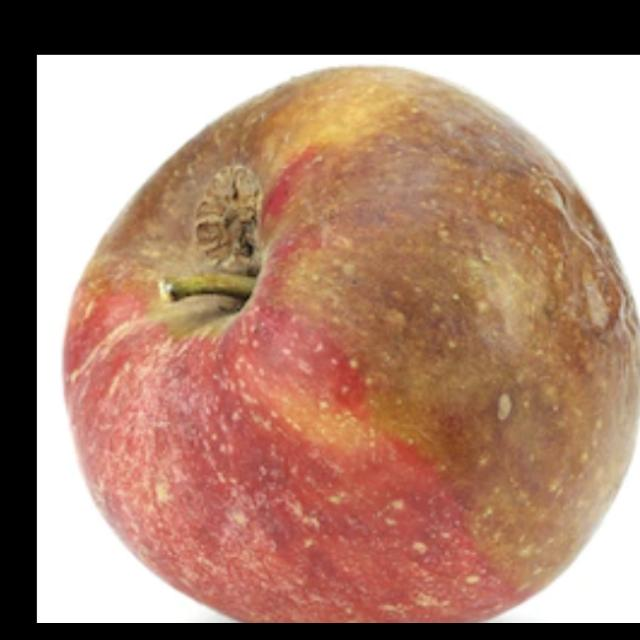Apel Tidak Segar: (56, 68, 640, 622)
